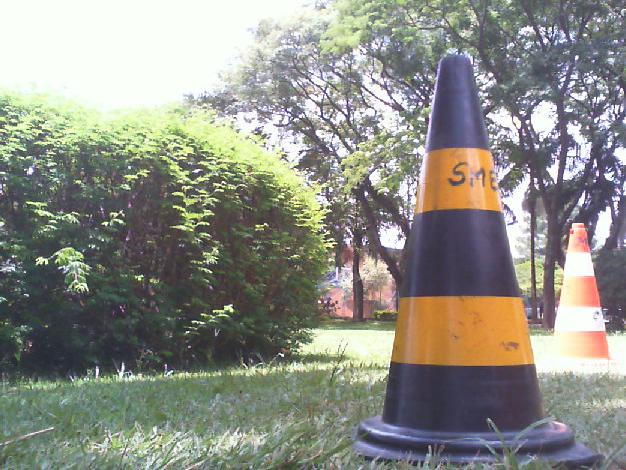0 cone: (356, 55, 586, 460), (554, 224, 608, 363)
